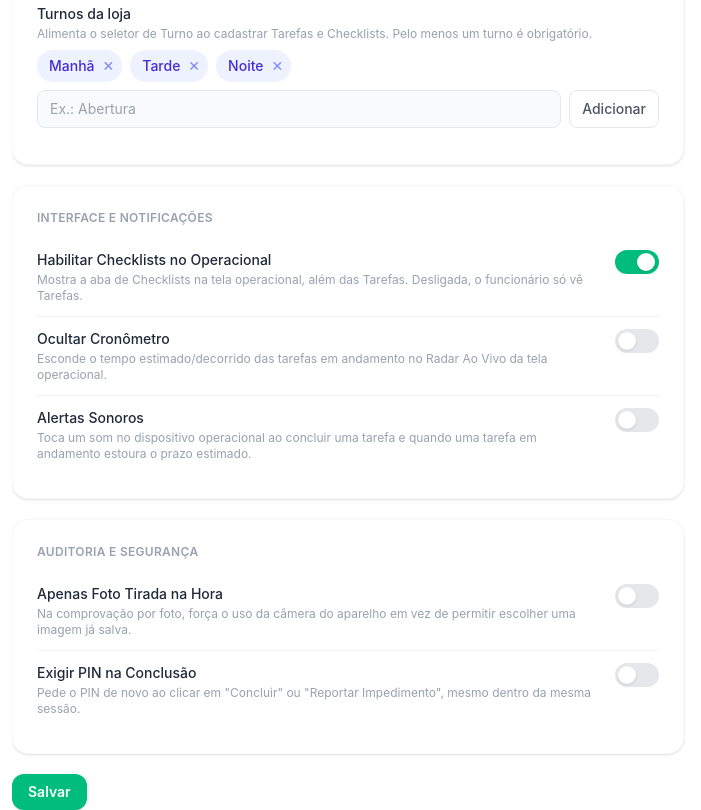
it: StoreSettingsPage › mostra o erro vindo da API quando salvar falha
The image size is (701, 810).
(page scrolled)
Click the button "Salvar": [49, 792] box [12,774,87,809]
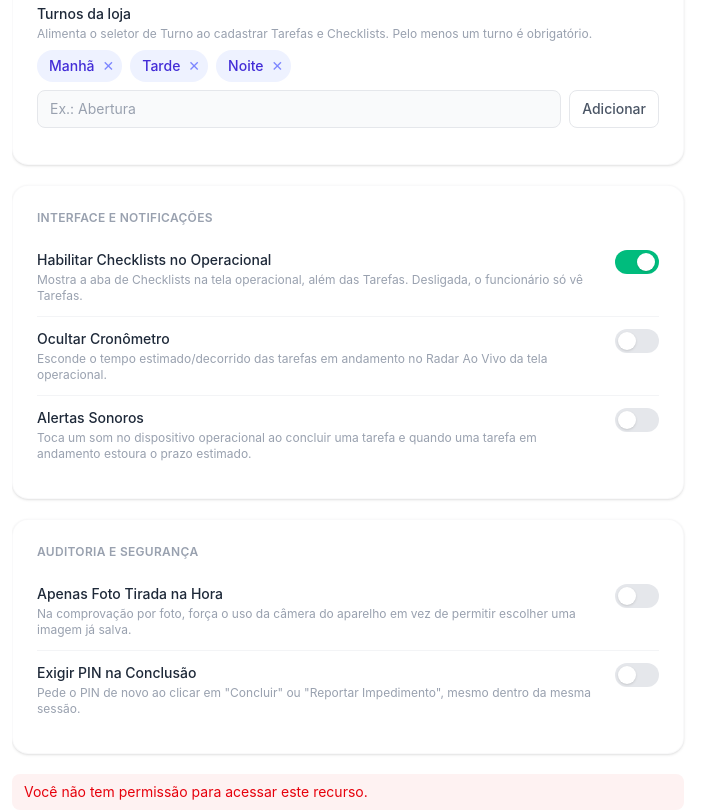
Expected: the message shows "não tem permissão", [24,783,368,800]
